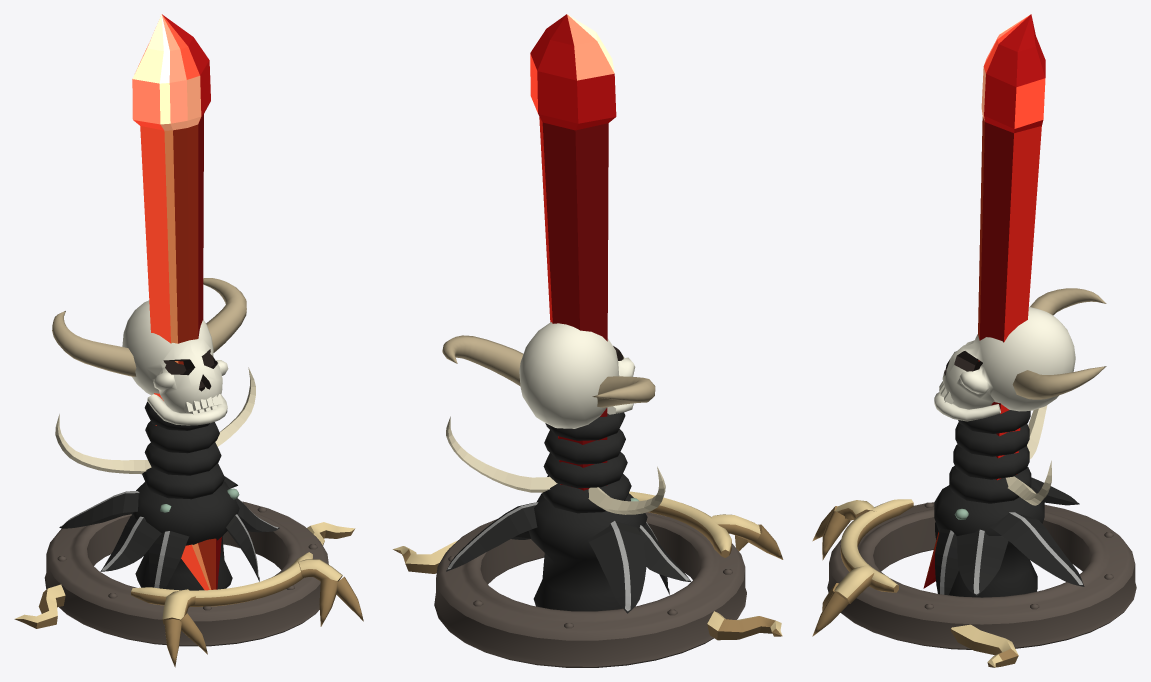
Rendered from TARLODE.glb.
The picture shows the model from 3 angles, left to right: view 1: azimuth 30°, elevation 25°; view 2: azimuth 150°, elevation 25°; view 3: azimuth 270°, elevation 25°; orthographic projection. The views are drawn at different scales.
Visible parts, largest first — view 1: TARLODE; view 2: TARLODE; view 3: TARLODE.
Boxes of the visible parts, box(x1,y1,x2,y2) form: TARLODE: box(14, 14, 363, 667); TARLODE: box(393, 14, 783, 667); TARLODE: box(812, 14, 1136, 667).
Size of the model in its own units: 3.96 by 6.01 by 3.08.
